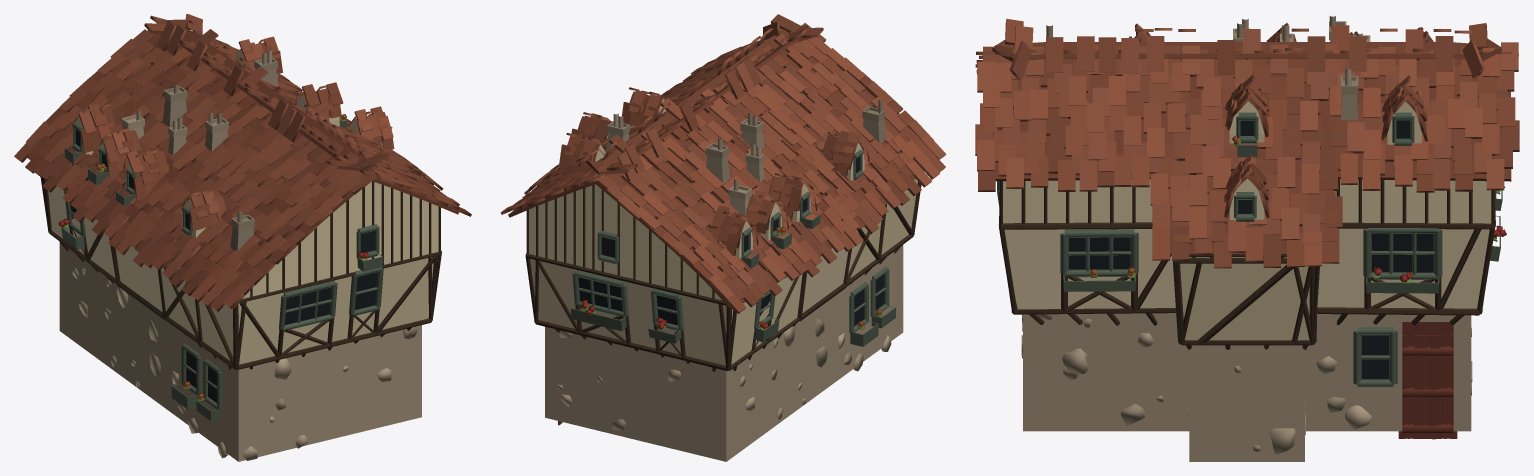
The model's file is house_09.glb.
3 views of the same model, side by side, from view 1: azimuth 30°, elevation 25°; view 2: azimuth 150°, elevation 25°; view 3: azimuth 270°, elevation 25° (orthographic). The views are drawn at different scales.
Parts seen in each view (by area): view 1: house_09; view 2: house_09; view 3: house_09.
Part boxes in pixels (x1=…): house_09: x1=14, y1=14, x2=471, y2=461; house_09: x1=500, y1=14, x2=946, y2=461; house_09: x1=975, y1=16, x2=1519, y2=461.
Size of the model in its own units: 7.97 by 7.55 by 10.04.
